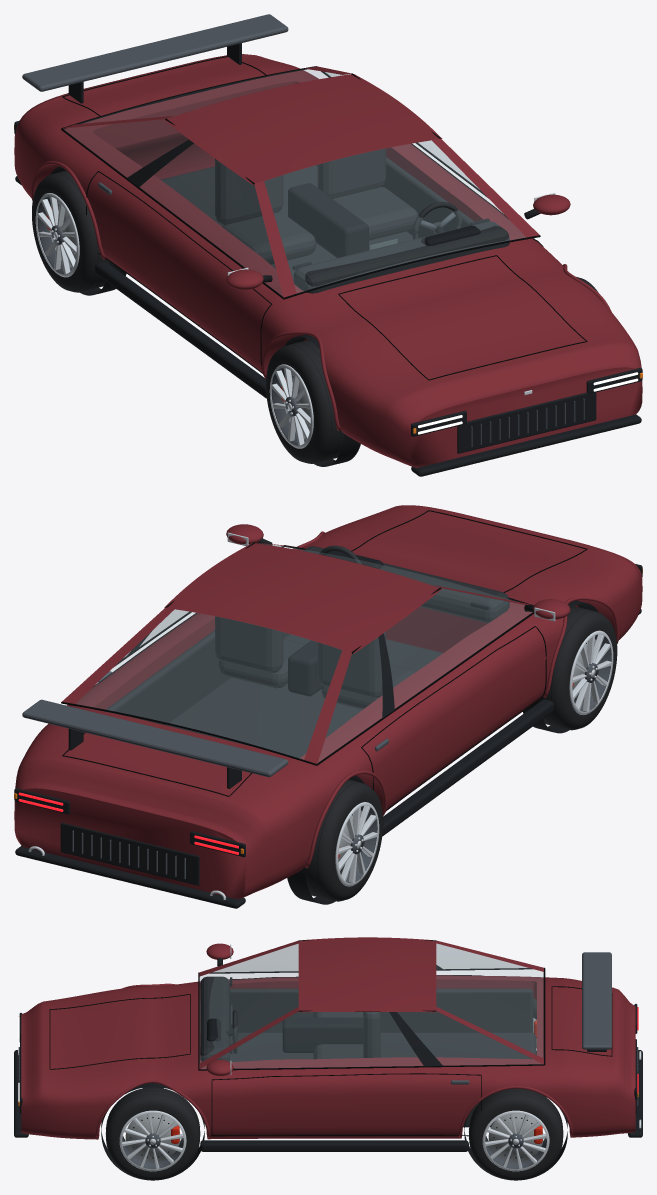
Rendered from endurance.glb.
3 views of the same model, one above another, from view 1: azimuth 30°, elevation 25°; view 2: azimuth 150°, elevation 25°; view 3: azimuth 270°, elevation 25° (orthographic). The views are drawn at different scales.
Parts seen in each view (by area): view 1: Sculpted body shell.021, Windshield.021, Painted roof.021, Side glass.042, Rear aero wing.007, Interior dashboard.021, Tire.086, Front grille housing.021, Interior centre console.021, Tire.084, Rocker aero sill.042, Interior cabin floor.021 (+17 smaller); view 2: Sculpted body shell.021, Rear glass.021, Painted roof.021, Side glass.042, Interior cabin floor.021, Rear aero wing.007, Interior door card.043, Rear diffuser grille.021, Tire.084, Tire.086, Rocker aero sill.042, Interior seat back.069 (+24 smaller); view 3: Sculpted body shell.021, Side glass.043, Painted roof.021, Rear glass.021, Interior door card.042, Windshield.021, Interior cabin floor.021, Tire.087, Tire.085, Rocker aero sill.043, Rear aero wing.007, Interior centre console.021 (+28 smaller).
Boxes of the visible parts, x1,y1,x2,y2 form: Sculpted body shell.021: (14, 54, 642, 467); Windshield.021: (264, 140, 525, 292); Painted roof.021: (172, 75, 434, 181); Side glass.042: (64, 120, 282, 295); Rear aero wing.007: (22, 14, 288, 91); Interior dashboard.021: (293, 221, 509, 293); Tire.086: (266, 340, 343, 463); Front grille housing.021: (457, 392, 596, 453); Interior centre console.021: (288, 183, 368, 257); Tire.084: (32, 170, 109, 292); Rocker aero sill.042: (95, 261, 266, 398); Interior cabin floor.021: (160, 165, 412, 281); Sculpted body shell.021: (14, 505, 642, 899); Rear glass.021: (76, 609, 341, 759); Painted roof.021: (172, 544, 435, 650); Side glass.042: (318, 589, 531, 762); Interior cabin floor.021: (166, 634, 443, 758); Rear aero wing.007: (22, 699, 288, 777); Interior door card.043: (104, 630, 289, 725); Rear diffuser grille.021: (60, 822, 199, 885); Tire.084: (304, 779, 383, 901); Tire.086: (539, 606, 617, 730); Rocker aero sill.042: (382, 699, 553, 836); Interior seat back.069: (215, 616, 283, 673); Sculpted body shell.021: (21, 975, 635, 1139); Side glass.043: (202, 1012, 540, 1068); Painted roof.021: (298, 938, 436, 1011); Rear glass.021: (436, 944, 543, 1057); Interior door card.042: (230, 988, 533, 1032); Windshield.021: (200, 944, 298, 1062); Interior cabin floor.021: (229, 1032, 536, 1061); Tire.087: (105, 1087, 200, 1180); Tire.085: (469, 1088, 563, 1180); Rocker aero sill.043: (200, 1140, 468, 1151); Rear aero wing.007: (582, 952, 611, 1049); Interior centre console.021: (282, 1017, 363, 1052).
Size of the model in its own units: 2.45 by 1.42 by 5.06.
